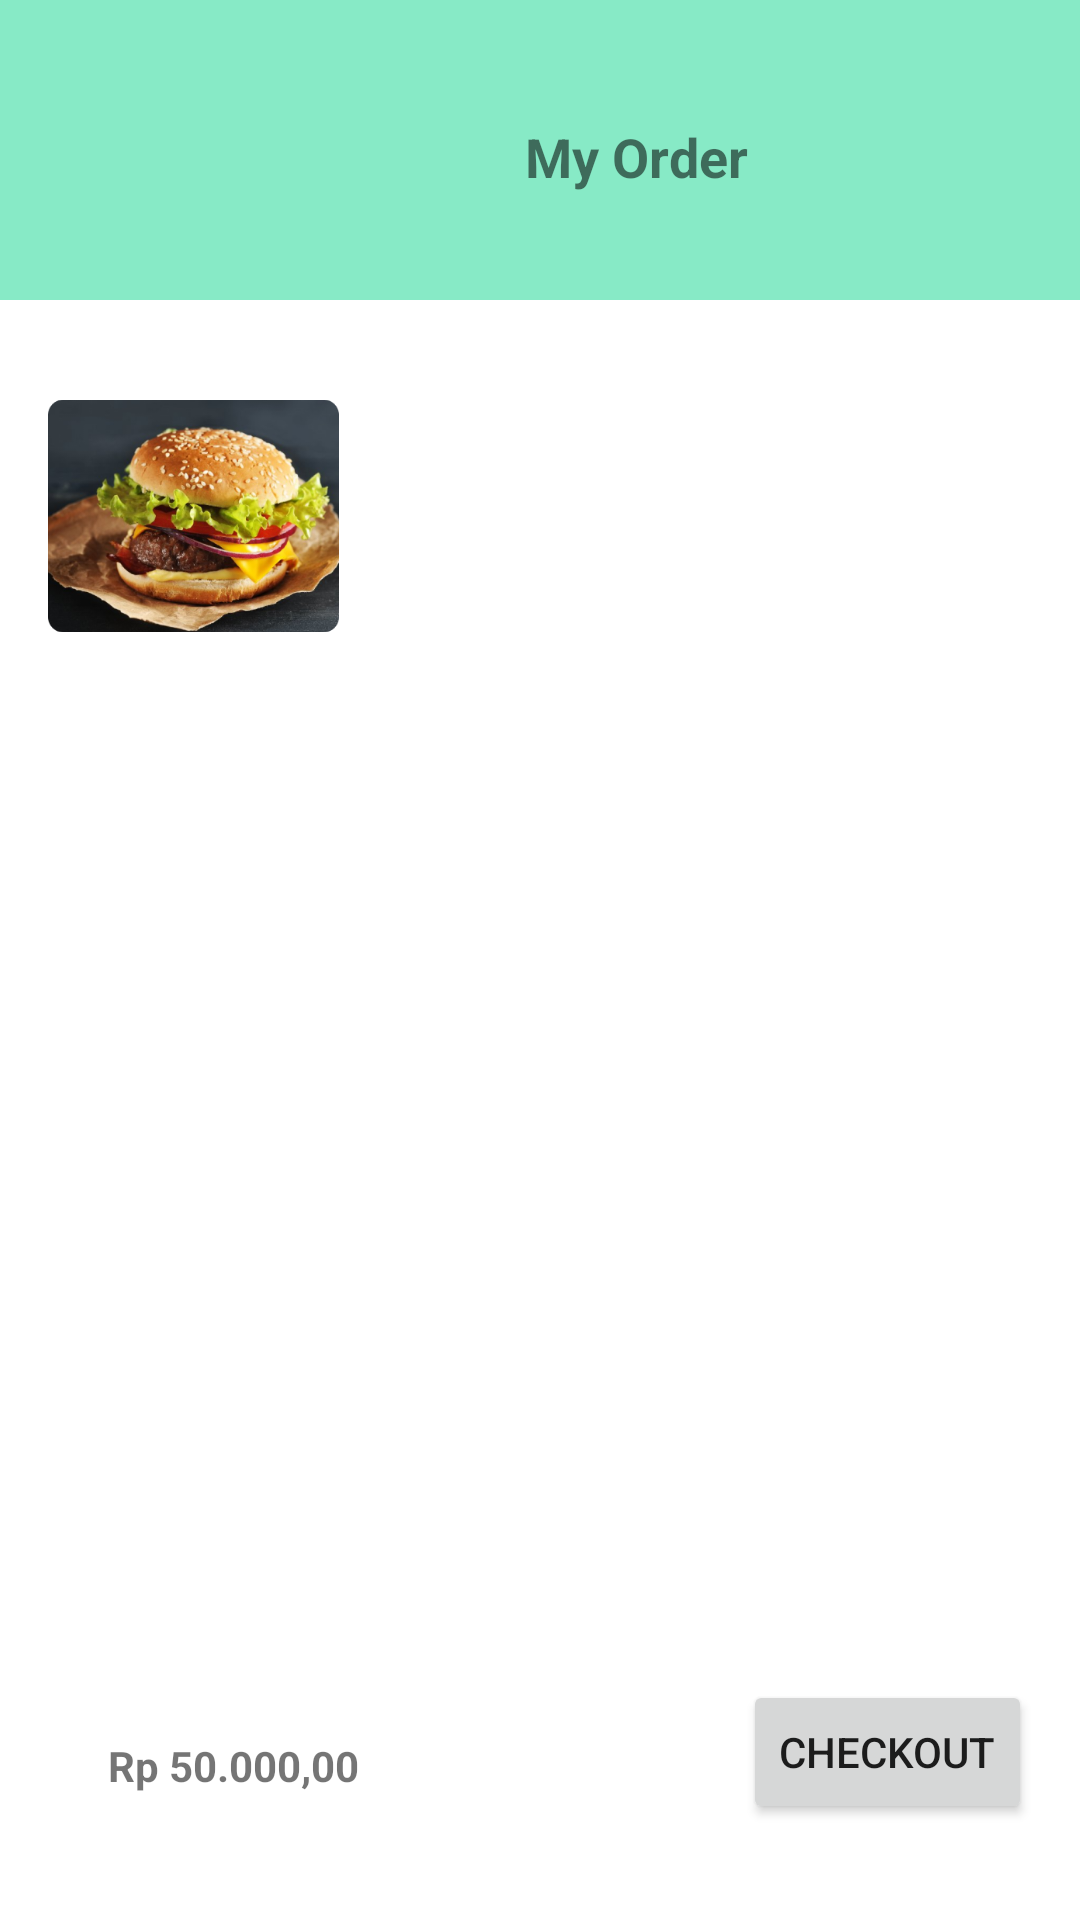

Locate icon controls on the screen. Image size 1080 x 1920, boxes as [x1,y1,x2,y2].
burger: [48,400,339,632]
